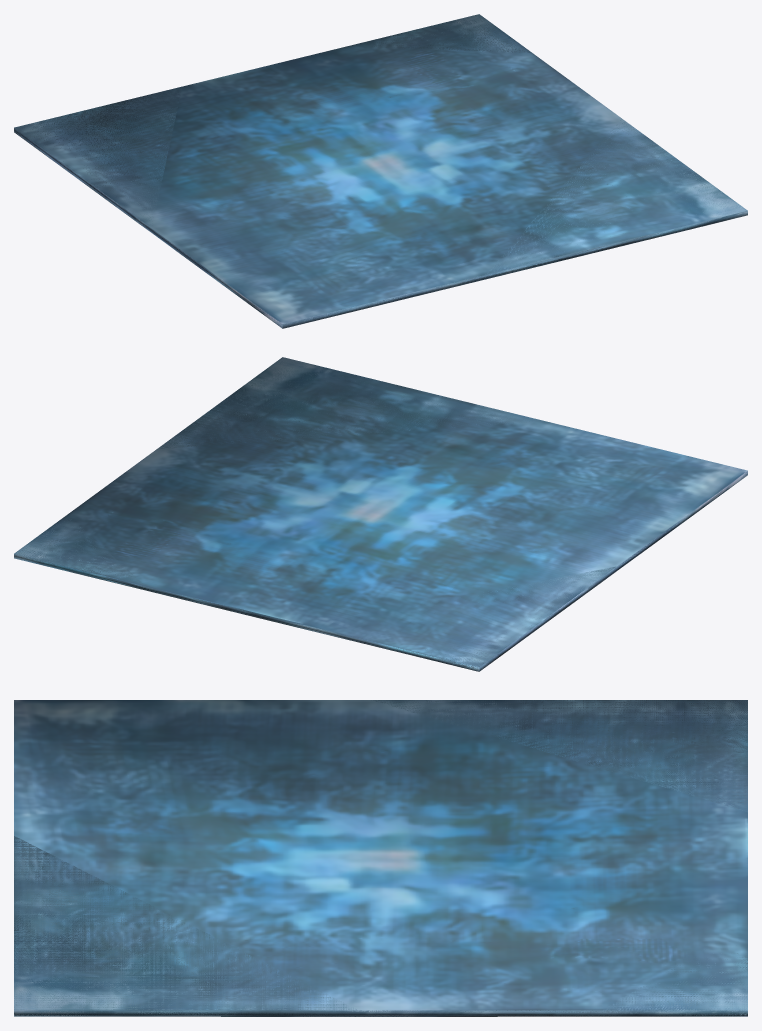
File: ice-ground-lod2.glb
3 renders of one model, top to bottom at view 1: azimuth 30°, elevation 25°; view 2: azimuth 150°, elevation 25°; view 3: azimuth 270°, elevation 25°, orthographic. The views are drawn at different scales.
Parts seen in each view (by area): view 1: ice-ground.002; view 2: ice-ground.002; view 3: ice-ground.002.
Boxes of the visible parts, bbox=[...] form: ice-ground.002: bbox=[14, 14, 747, 328]; ice-ground.002: bbox=[14, 357, 747, 671]; ice-ground.002: bbox=[14, 700, 747, 1016].
Bounding box in the file's own units: 32 × 0.3501 × 32.
Materials: 1 (1 with a texture image).
